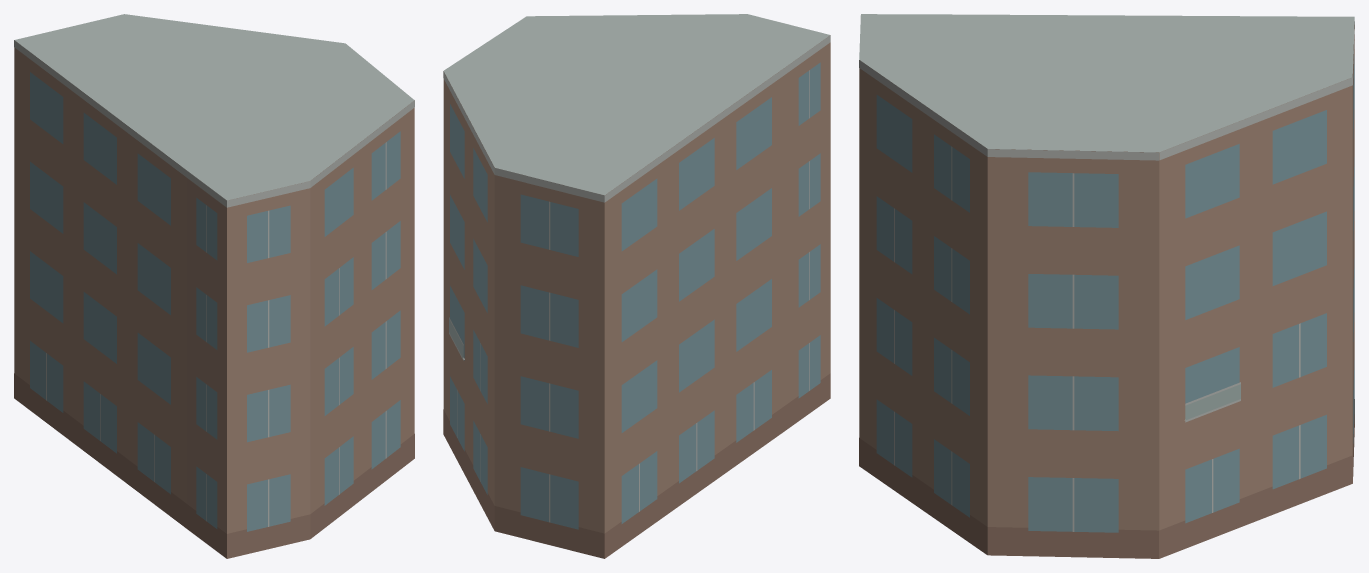
Rendered from residential-e20c71f9-912c-4c41-ab1a-37cf369a1ee2.glb.
3 views of the same model, side by side, from view 1: azimuth 30°, elevation 25°; view 2: azimuth 150°, elevation 25°; view 3: azimuth 270°, elevation 25° (orthographic). The views are drawn at different scales.
Visible parts, largest first — view 1: residential-e20c71f9-912c-4c41-ab1a-37cf369a1ee2.tmp; view 2: residential-e20c71f9-912c-4c41-ab1a-37cf369a1ee2.tmp; view 3: residential-e20c71f9-912c-4c41-ab1a-37cf369a1ee2.tmp.
Part boxes in pixels (bbox=[...]): residential-e20c71f9-912c-4c41-ab1a-37cf369a1ee2.tmp: bbox=[14, 14, 414, 558]; residential-e20c71f9-912c-4c41-ab1a-37cf369a1ee2.tmp: bbox=[443, 14, 830, 558]; residential-e20c71f9-912c-4c41-ab1a-37cf369a1ee2.tmp: bbox=[859, 14, 1354, 558].
Bounding box in the file's own units: 8.92 × 12.2 × 13.49.
